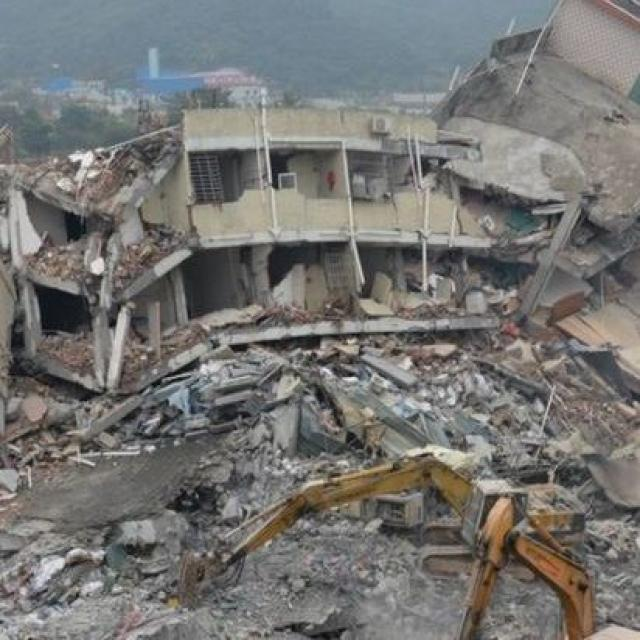collapsed_building: (3, 93, 639, 423)
